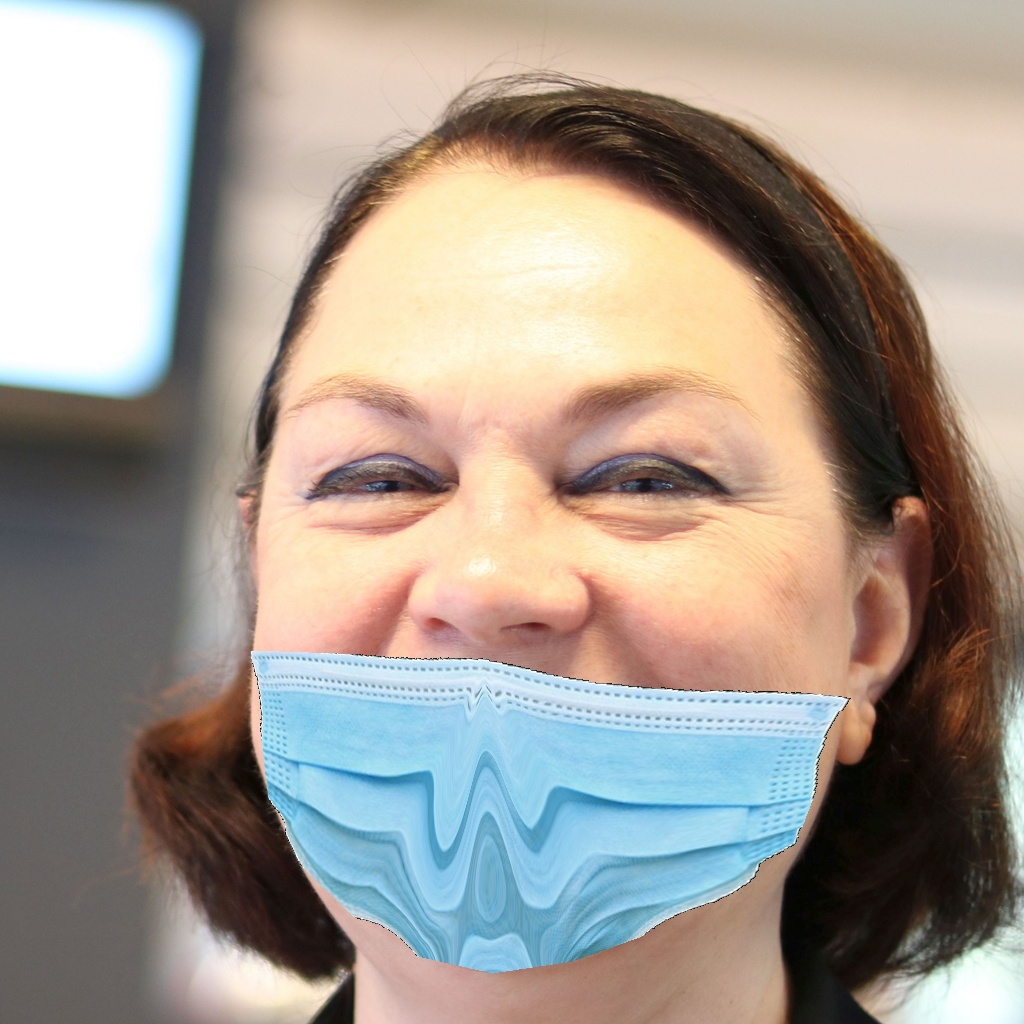mascarilla_mal_puesta: (199, 355, 839, 993)
